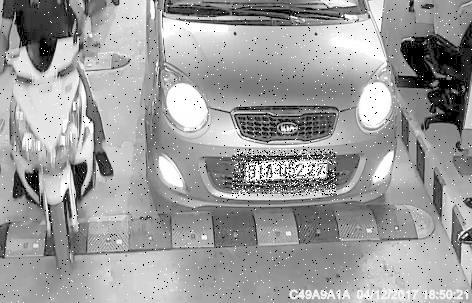License-plate: (233, 151, 337, 198)
